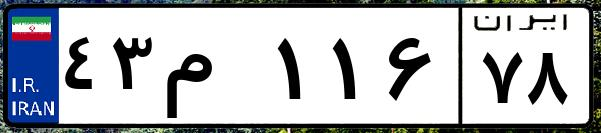1: (270, 28, 330, 110), (330, 28, 385, 110)
3: (110, 28, 158, 98)
4: (57, 26, 110, 100)
6: (385, 28, 445, 110)
7: (475, 38, 525, 113)
8: (525, 38, 570, 115)
م: (158, 20, 270, 120)
